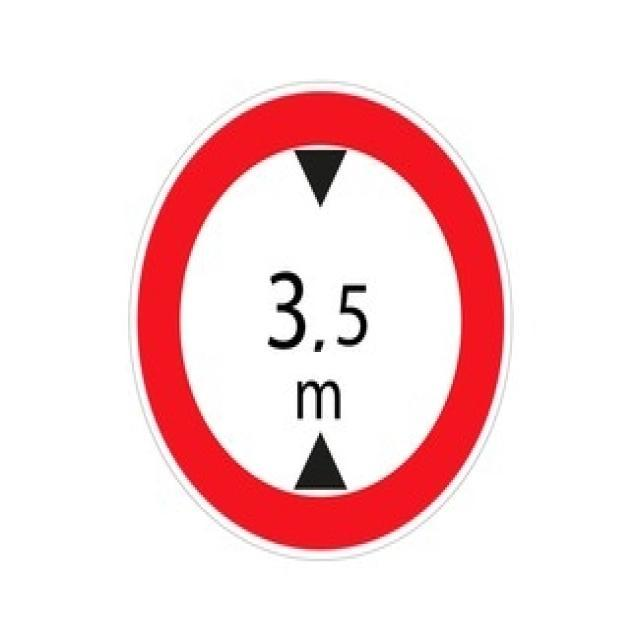height limit: (137, 88, 504, 549)
